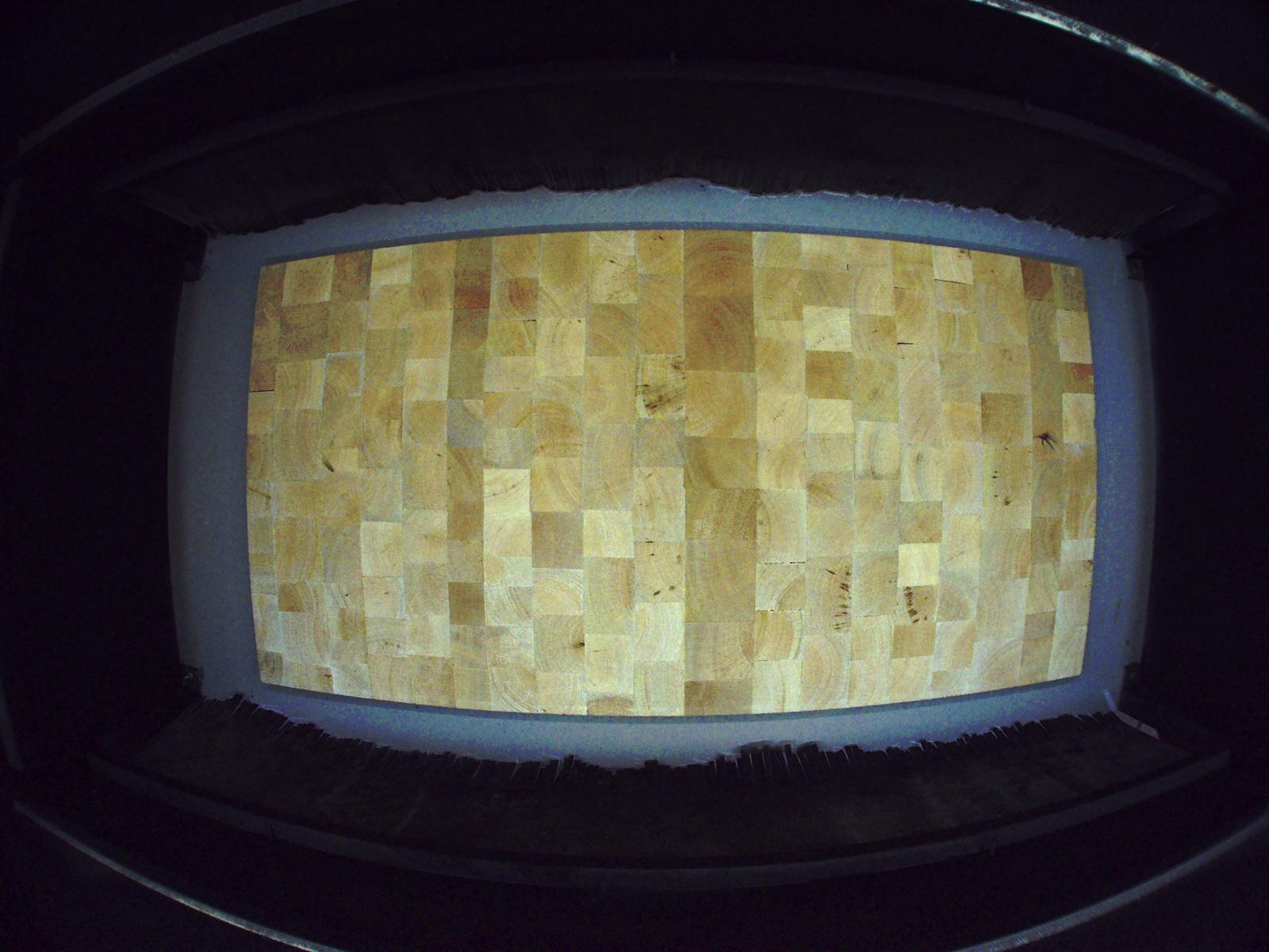nudillo: (570, 640, 585, 649)
sheck_ecuatoriano: (1032, 429, 1065, 452)
